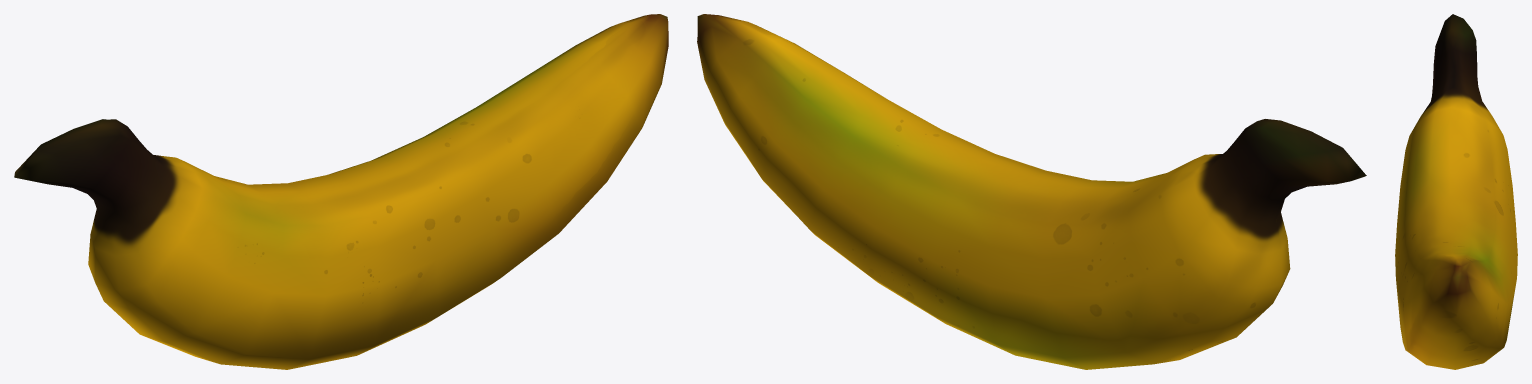
File: banana.glb
3 renders of one model, left to right at view 1: azimuth 30°, elevation 25°; view 2: azimuth 150°, elevation 25°; view 3: azimuth 270°, elevation 25°, orthographic. The views are drawn at different scales.
Parts seen in each view (by area): view 1: banana; view 2: banana; view 3: banana.
Boxes of the visible parts, bbox=[...] form: banana: bbox=[14, 14, 668, 369]; banana: bbox=[697, 14, 1366, 369]; banana: bbox=[1395, 14, 1517, 369].
Bounding box in the file's own units: 1.5 × 0.6181 × 0.3061.
1 material, 1 textured.
